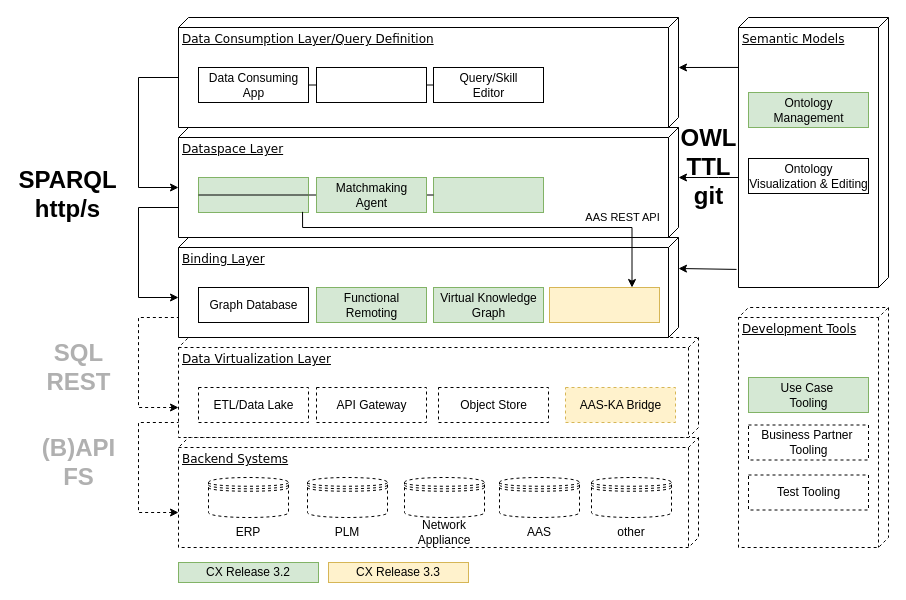
The diagram is 906 pixels wide and 600 high, and some of its shapes have lost their labels. The centre of each missing label's shape, as x and y in pixels:
"EDC* Control Plane Data Plane(s)" belongs at (253,194).
"Federated Catalogue" belongs at (488,194).
"KA-AAS Bridge" belongs at (604,304).
"Skill Framework" belongs at (371,84).
